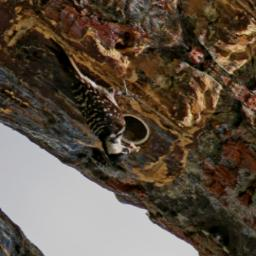Woodpecker: (18, 25, 163, 172)
